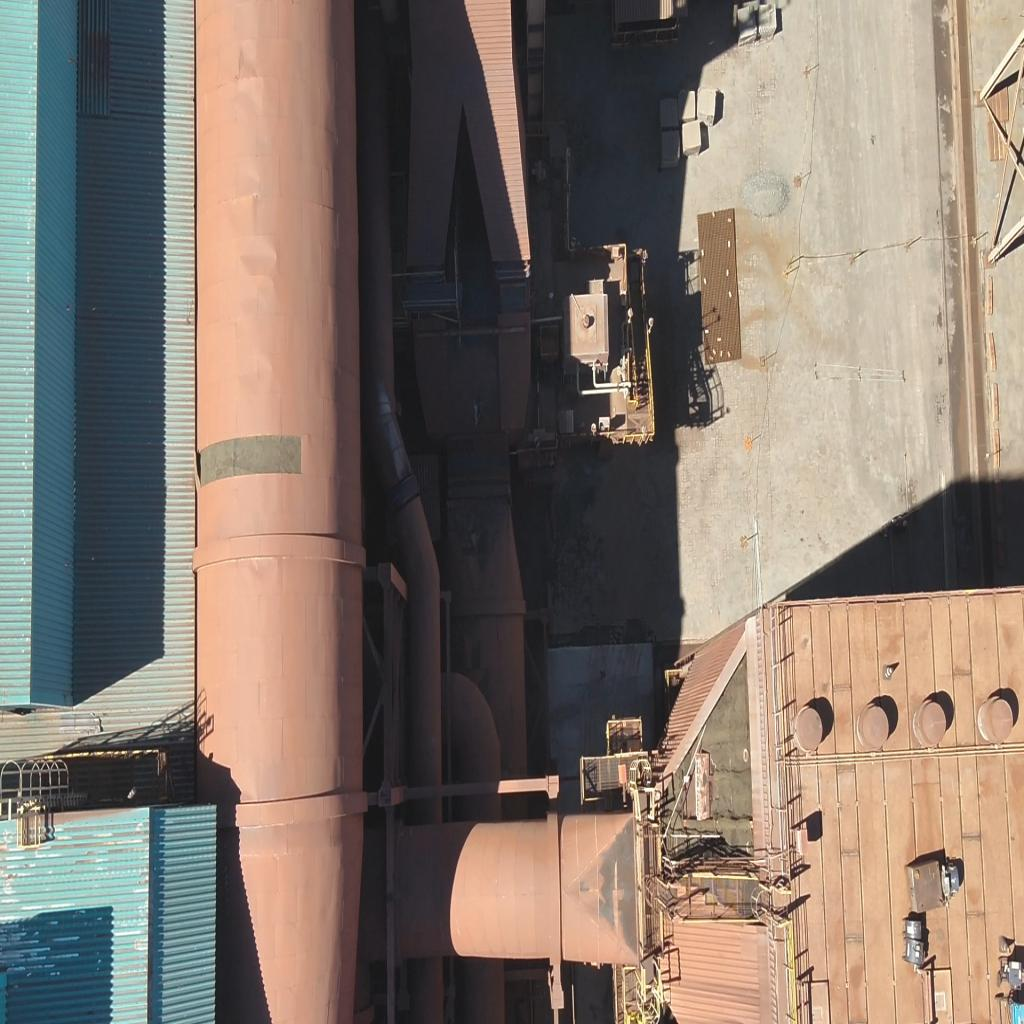Failures: (674, 664, 754, 872), (191, 433, 308, 487)
